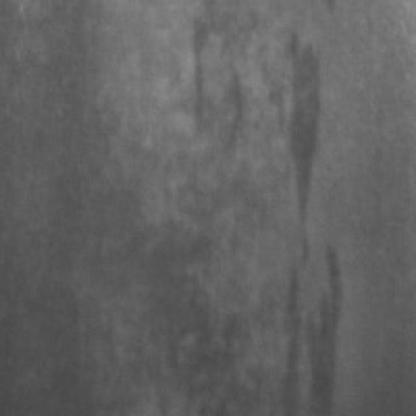inclusion: (258, 18, 318, 252), (272, 233, 346, 410), (176, 15, 244, 160)
